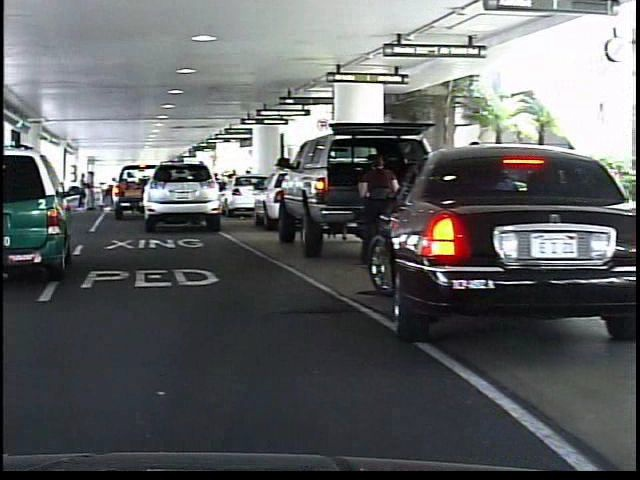person: (351, 150, 401, 261)
